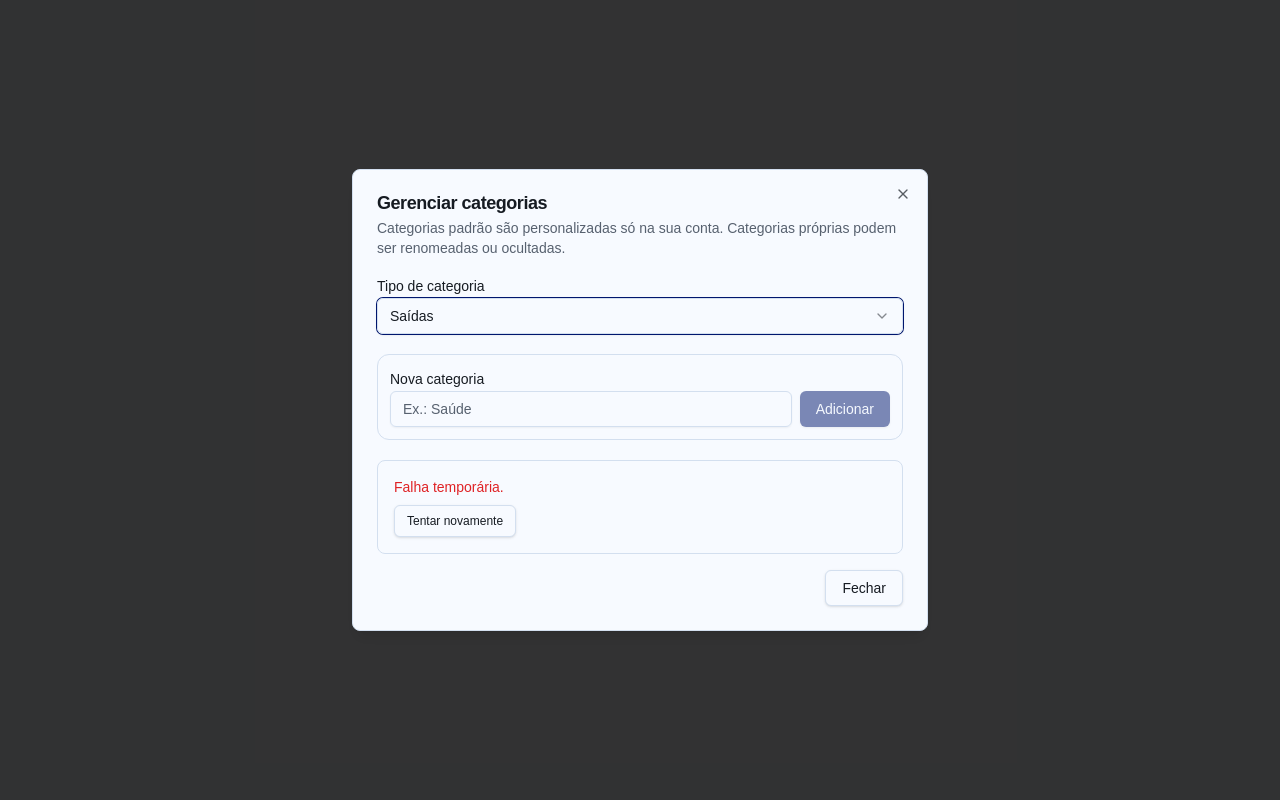
Scenario: FinancialCategoryManager › shows a load failure and retries the category request
Check: the message reads "Falha temporária.", box [394,479,504,495]
Click the button "Tentar novamente".
click(455, 521)  # box [394,505,516,537]
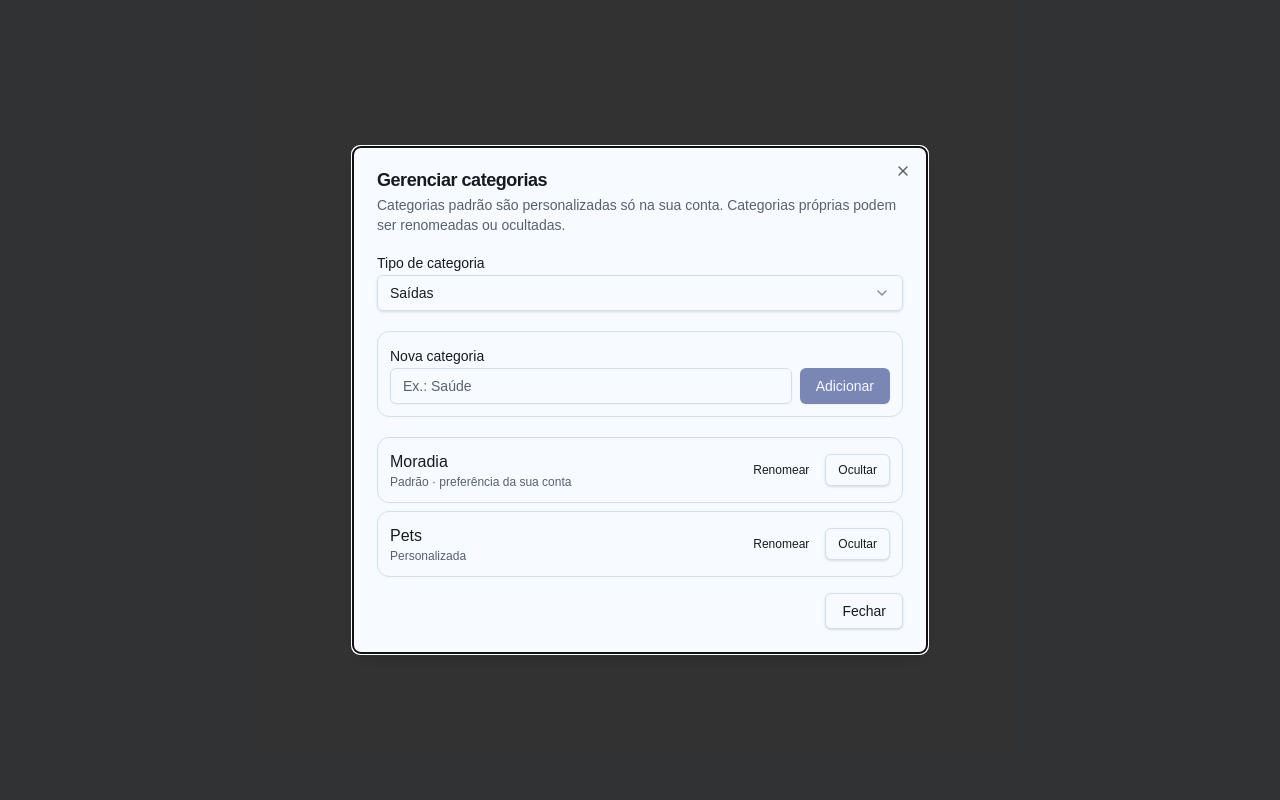
Check: the text "Moradia" is shown, box [390,453,448,470]
